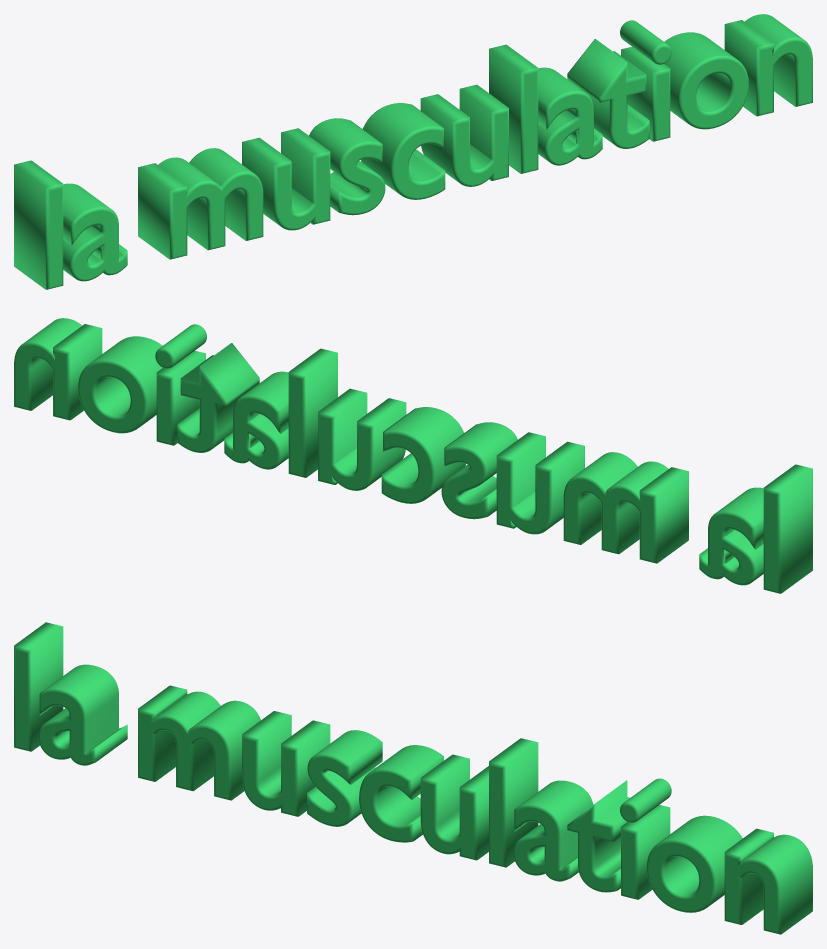
The picture shows the model from 3 angles, top to bottom: view 1: azimuth 30°, elevation 25°; view 2: azimuth 150°, elevation 25°; view 3: azimuth 330°, elevation 25°; orthographic projection.
Parts seen in each view (by area): view 1: Text; view 2: Text; view 3: Text.
Boxes of the visible parts, x1=… form: Text: x1=14, y1=14, x2=812, y2=289; Text: x1=14, y1=318, x2=812, y2=593; Text: x1=14, y1=622, x2=812, y2=934.
Bounding box in the file's own units: 5.68 × 0.731 × 0.44.
